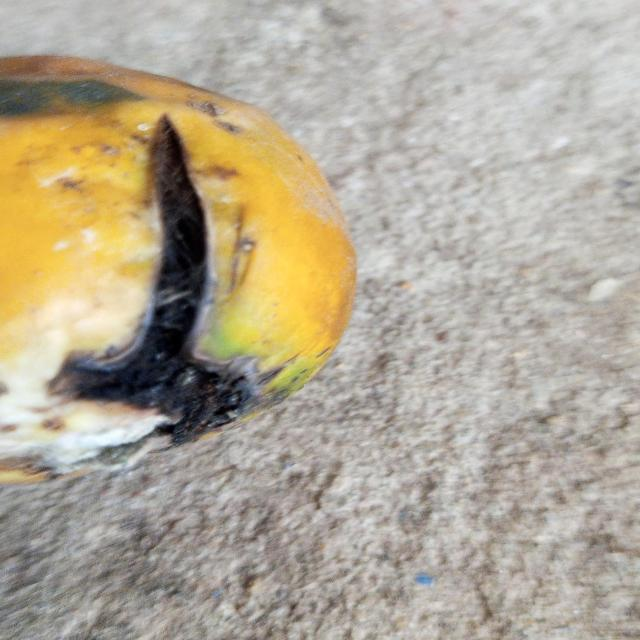damaged: (0, 54, 358, 489)
